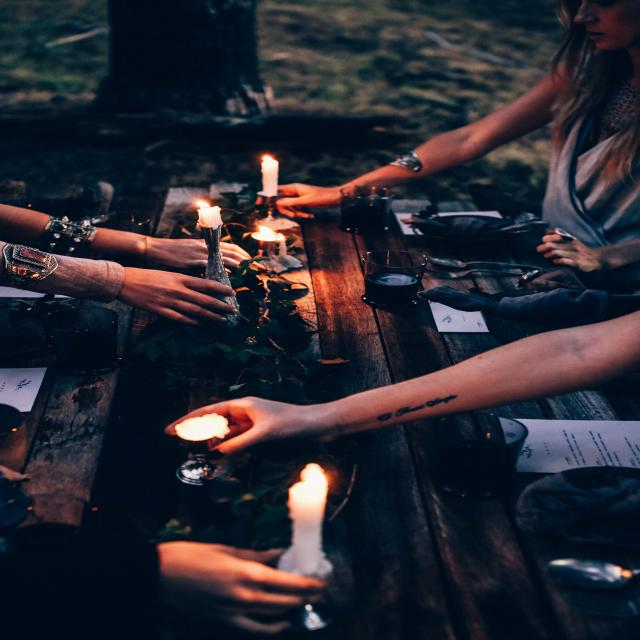fire: (170, 406, 233, 442), (294, 460, 342, 501)
